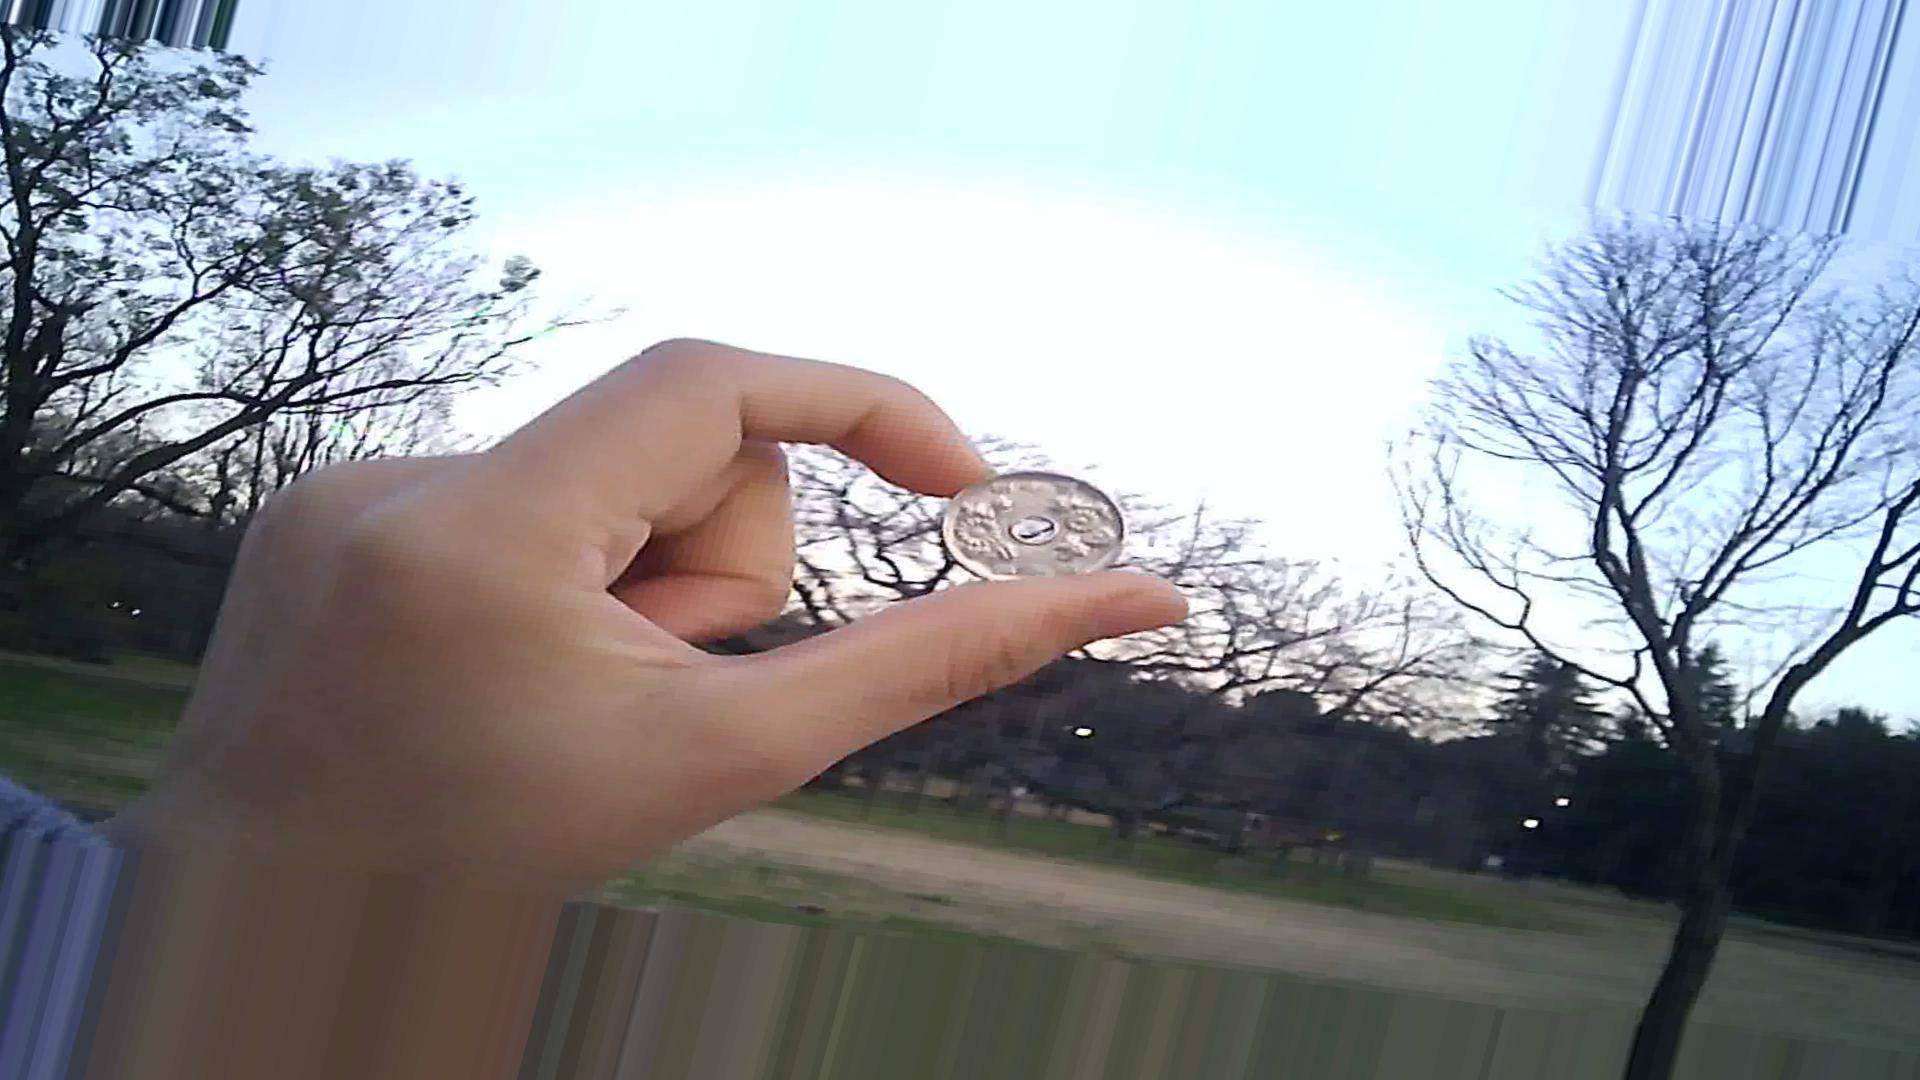50 Yen: (938, 454, 1138, 607)
